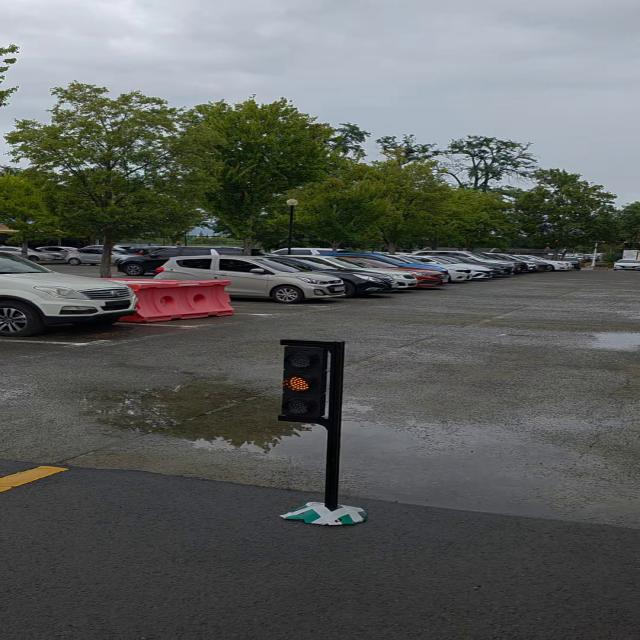yellow: (277, 337, 342, 423)
